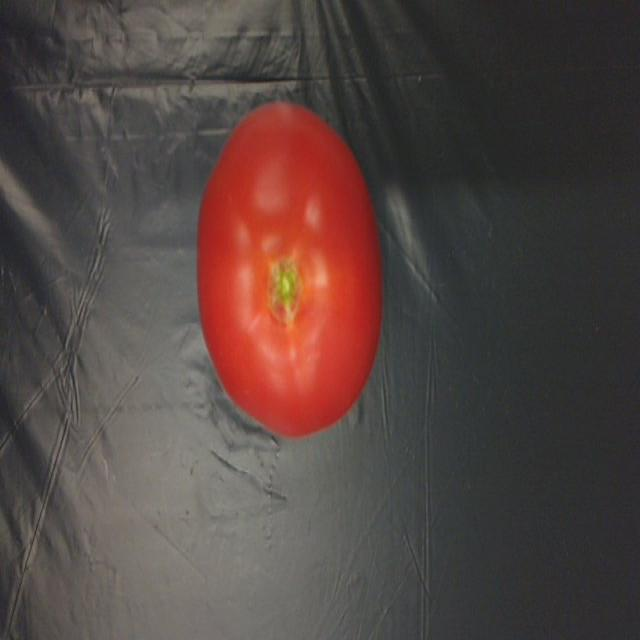kirmizi: (197, 78, 389, 434)
